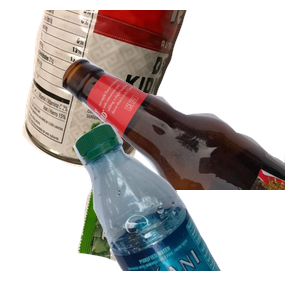glass: (60, 56, 300, 236)
metal: (20, 10, 199, 172)
plastic: (71, 120, 300, 300)
trash: (75, 156, 244, 300)
